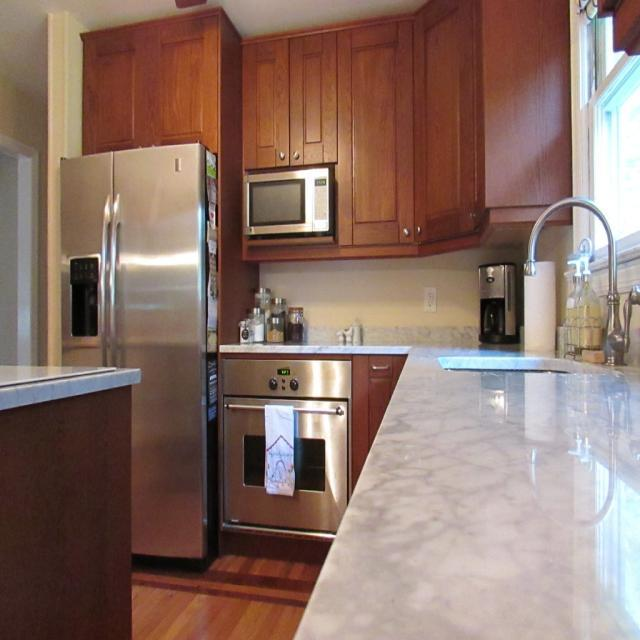Coffee-Machine: (460, 246, 524, 366)
